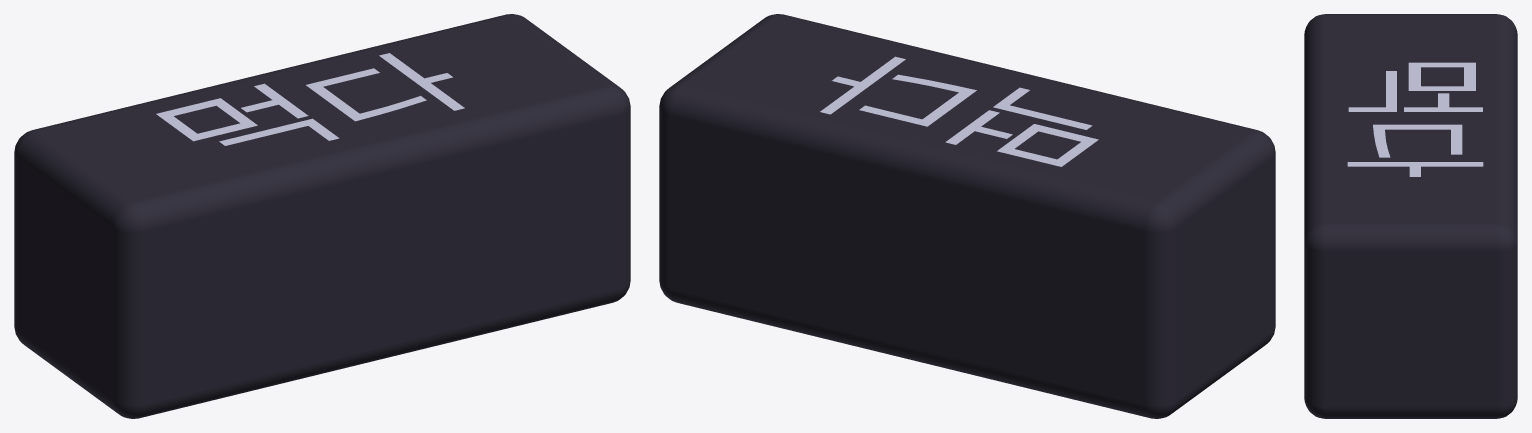
Rendered from BaseBlock1.glb.
3 views of the same model, side by side, from view 1: azimuth 30°, elevation 25°; view 2: azimuth 150°, elevation 25°; view 3: azimuth 270°, elevation 25° (orthographic). The views are drawn at different scales.
Visible parts, largest first — view 1: Cut, Extrude; view 2: Cut, Extrude; view 3: Cut, Extrude.
Part boxes in pixels (<box>): Cut: <box>14,14,630,418</box>; Extrude: <box>156,53,464,145</box>; Cut: <box>659,14,1275,418</box>; Extrude: <box>820,56,1098,166</box>; Cut: <box>1304,14,1517,418</box>; Extrude: <box>1347,62,1483,176</box>.
Bounding box in the file's own units: 5 × 2 × 2.
